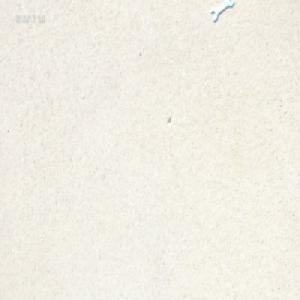Wrench: (209, 1, 233, 22)
